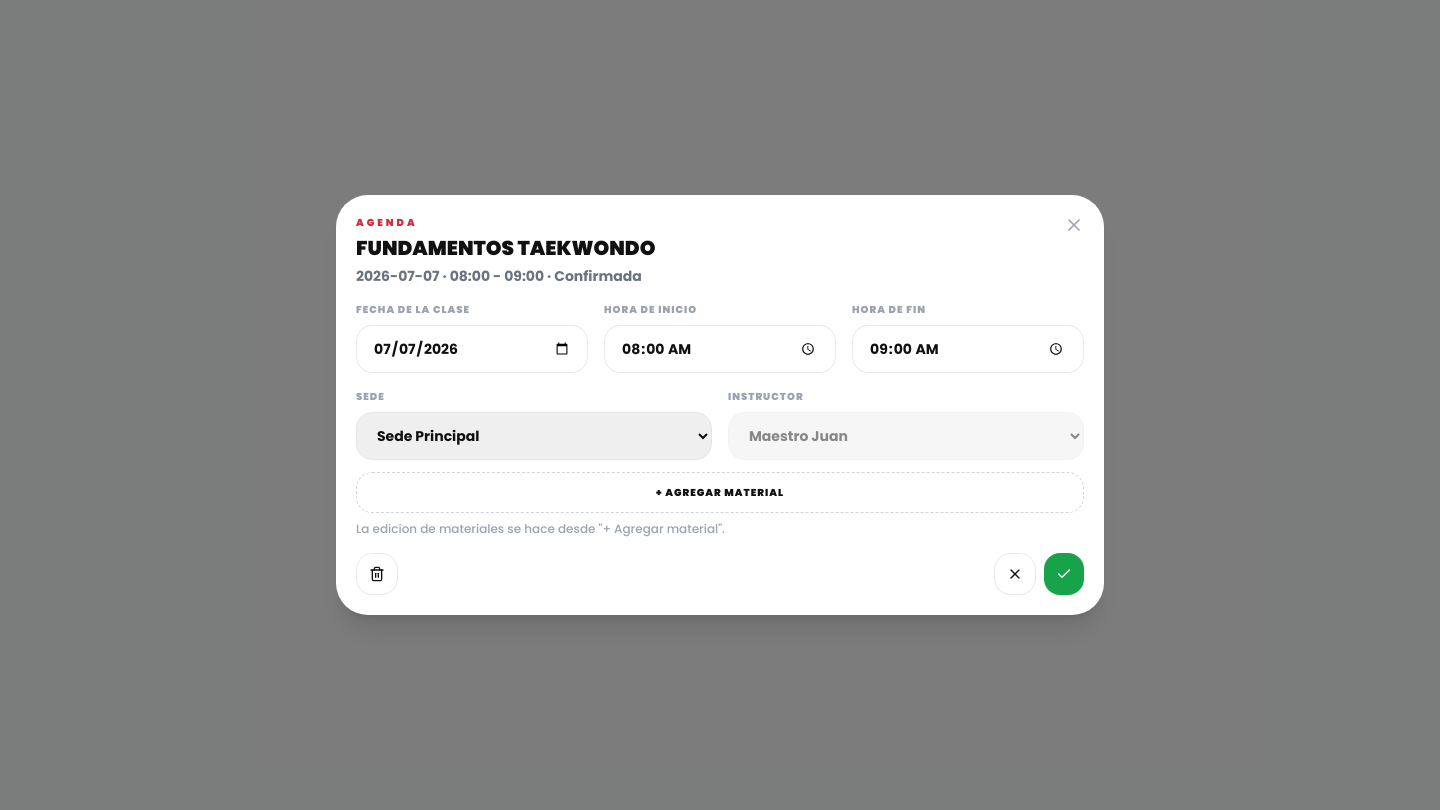
Test: ModalEdicionJornada › guardar muestra el mensaje de conflicto de concurrencia sin cerrar el modal
Click the button named "guardar cambios" at (1064, 574), box [1044,553,1084,595]
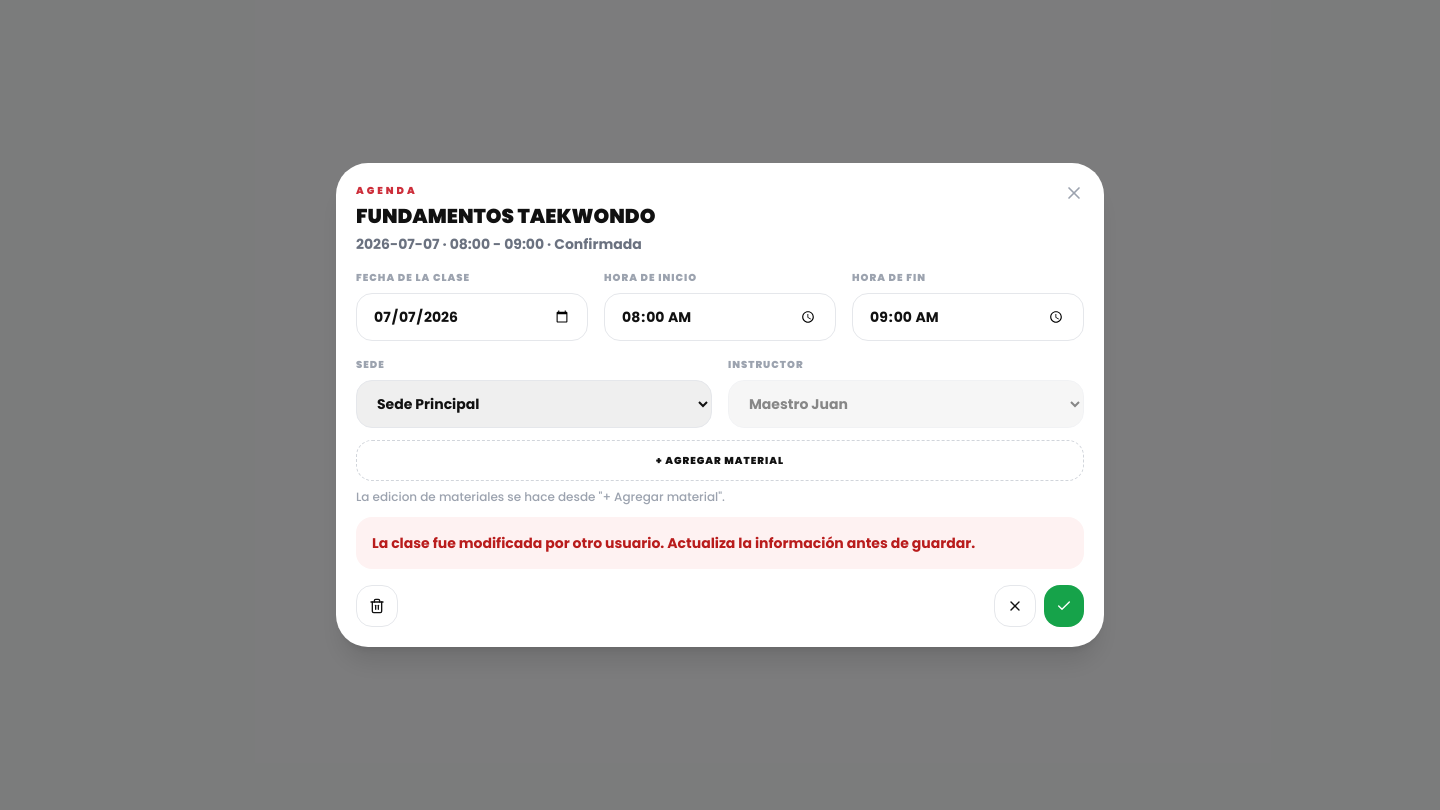
expect the text "La clase fue modificada por otro usuario. Actualiza la información antes de guardar." is shown: met, box [372,533,975,553]
